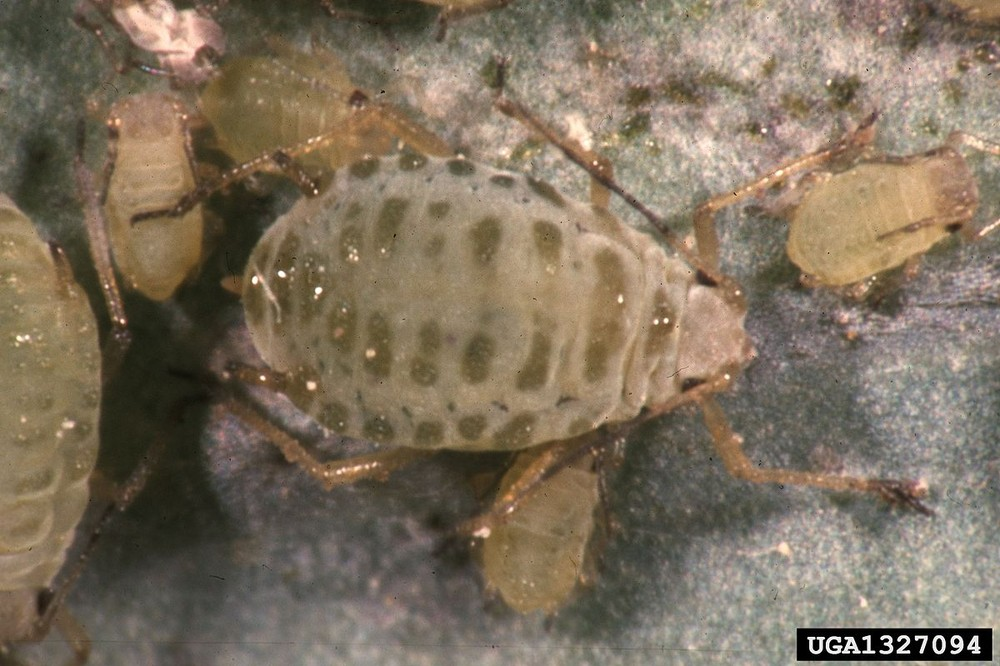Pulgon: (216, 86, 886, 560), (1, 168, 127, 659), (71, 75, 246, 312), (775, 114, 996, 292), (186, 37, 416, 198), (463, 415, 636, 625)
